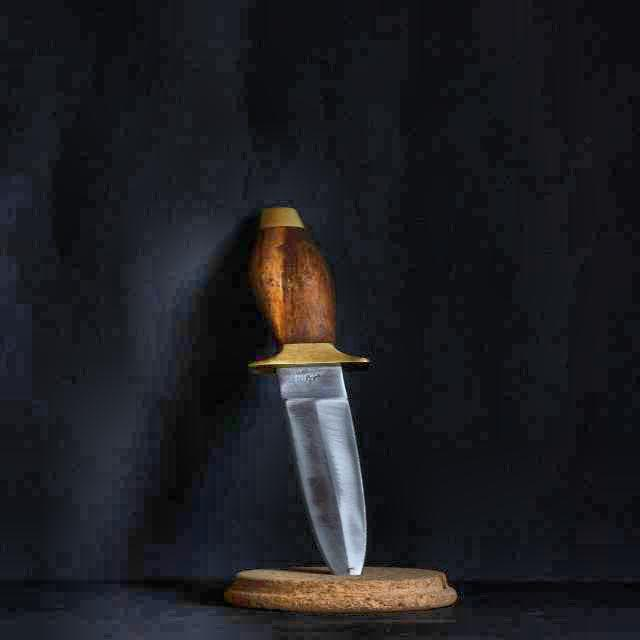knife: (238, 188, 392, 582)
